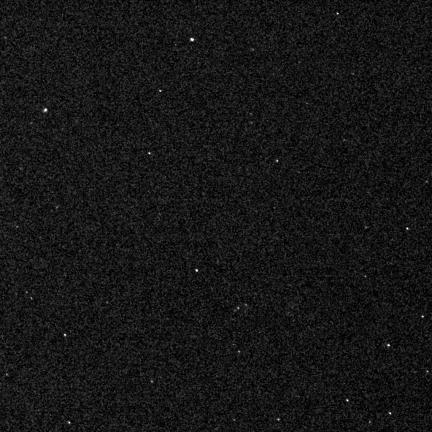blob: (387, 344, 391, 348), (336, 13, 340, 16), (196, 269, 199, 273), (44, 108, 47, 112), (64, 334, 67, 338), (190, 38, 194, 41), (406, 227, 409, 231), (346, 399, 349, 403), (276, 160, 279, 163), (159, 90, 162, 93), (148, 152, 151, 155)
